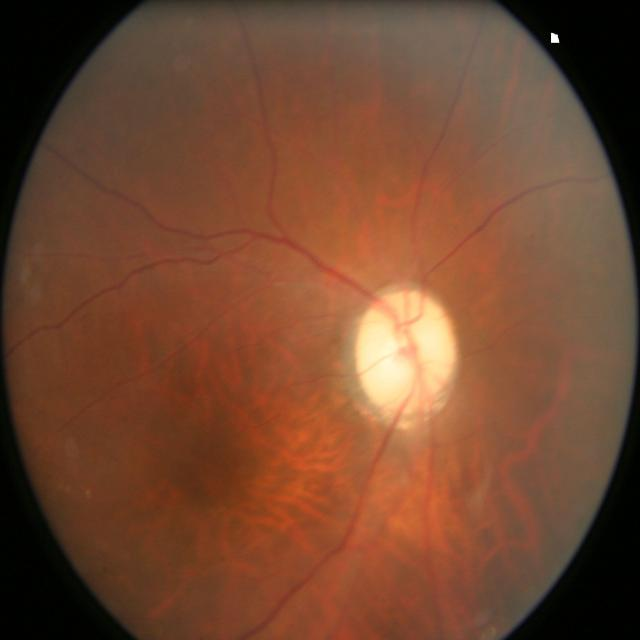OC: (379, 334, 419, 381)
OD: (358, 290, 453, 414)
